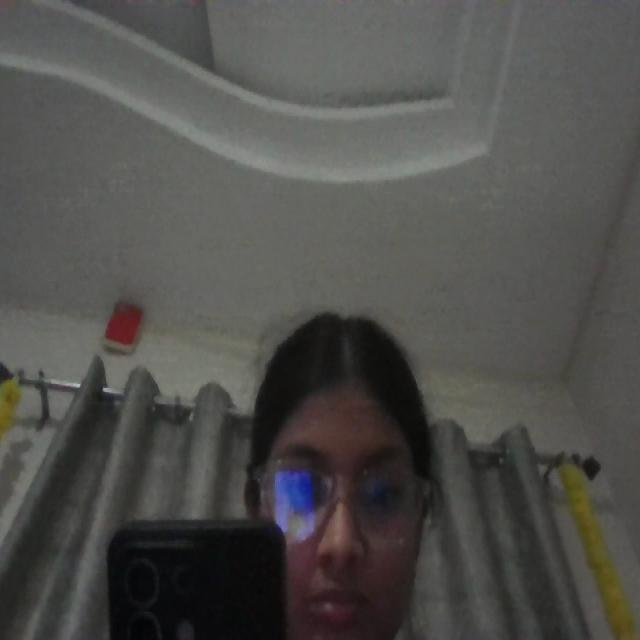phone: (108, 521, 284, 639)
